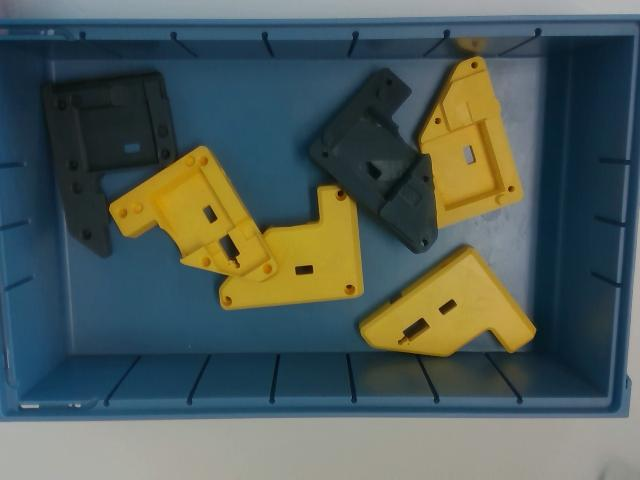1Agray: (302, 67, 437, 255)
1Ayellow: (219, 182, 372, 309), (417, 54, 523, 231)
1Byellow: (107, 144, 277, 279), (356, 245, 538, 358)
3Bgray: (42, 69, 179, 258)
